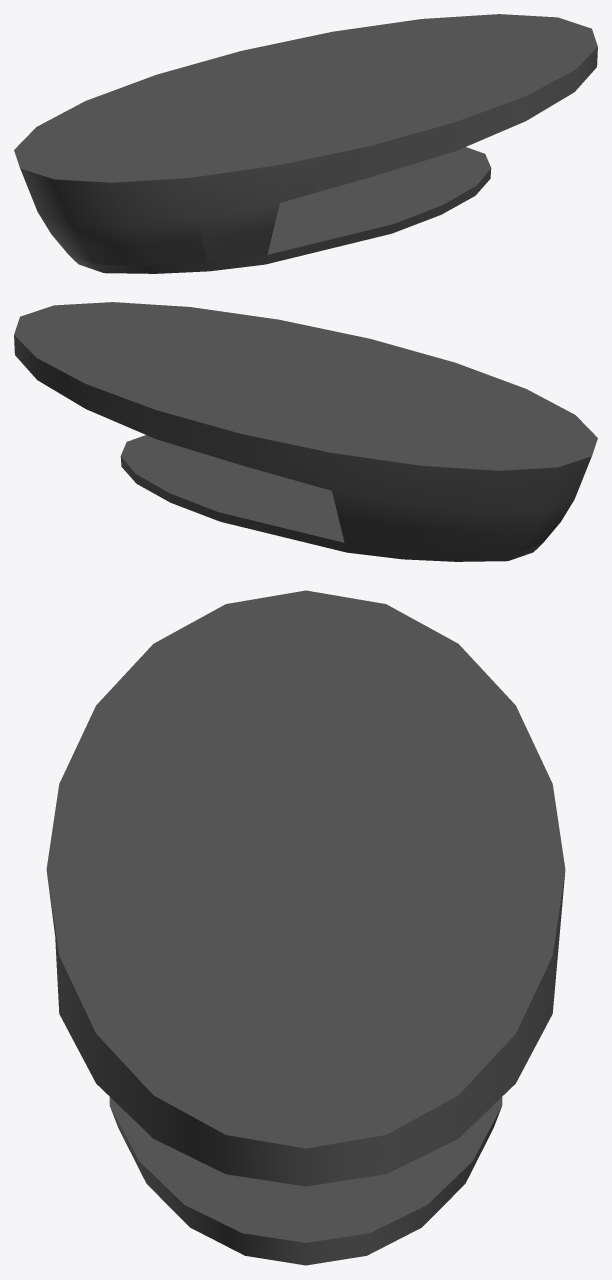
The model's file is fbx_desk_3.fbx.
3 views of the same model, one above another, from view 1: azimuth 30°, elevation 25°; view 2: azimuth 150°, elevation 25°; view 3: azimuth 270°, elevation 25° (orthographic). The views are drawn at different scales.
Visible parts, largest first — view 1: fbx_desk_3; view 2: fbx_desk_3; view 3: fbx_desk_3.
Part boxes in pixels (<box>): fbx_desk_3: <box>14,14,597,273</box>; fbx_desk_3: <box>14,302,597,561</box>; fbx_desk_3: <box>46,590,565,1265</box>.
Bounding box in the file's own units: 4.37 × 0.8063 × 1.72.
1 material, 1 textured.
